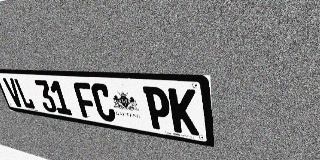1: (47, 80, 72, 115)
3: (34, 80, 58, 113)
C: (90, 83, 117, 123)
F: (72, 82, 99, 120)
K: (168, 88, 199, 136)
L: (13, 78, 36, 110)
P: (143, 86, 173, 132)
V: (2, 78, 25, 108)
